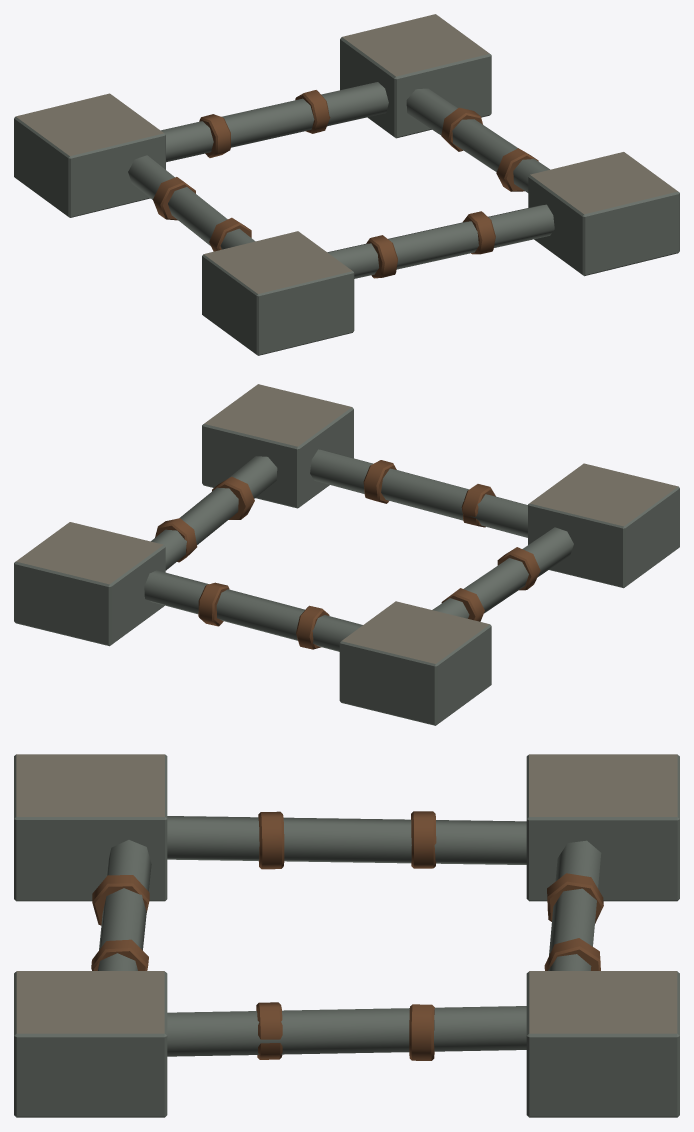
File: R4C_ROD_FRAME_LOD1.fbx
The picture shows the model from 3 angles, top to bottom: view 1: azimuth 30°, elevation 25°; view 2: azimuth 150°, elevation 25°; view 3: azimuth 270°, elevation 25°; orthographic projection. The views are drawn at different scales.
Visible parts, largest first — view 1: R4C_ROD_FRAME_LOD1; view 2: R4C_ROD_FRAME_LOD1; view 3: R4C_ROD_FRAME_LOD1.
Part boxes in pixels (bbox=[...]): R4C_ROD_FRAME_LOD1: bbox=[14, 14, 679, 355]; R4C_ROD_FRAME_LOD1: bbox=[14, 384, 679, 725]; R4C_ROD_FRAME_LOD1: bbox=[14, 754, 679, 1117].
Size of the model in its own units: 1.62 by 0.226 by 1.62.
